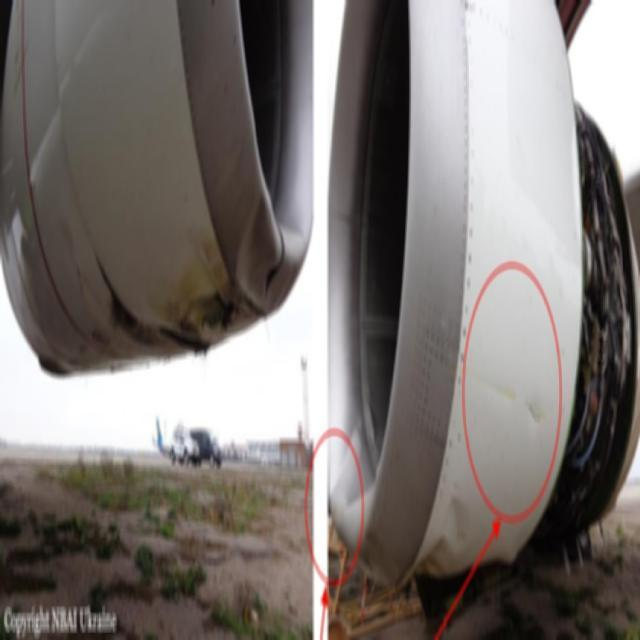crack: (523, 395, 544, 433)
dent: (409, 498, 472, 587)
